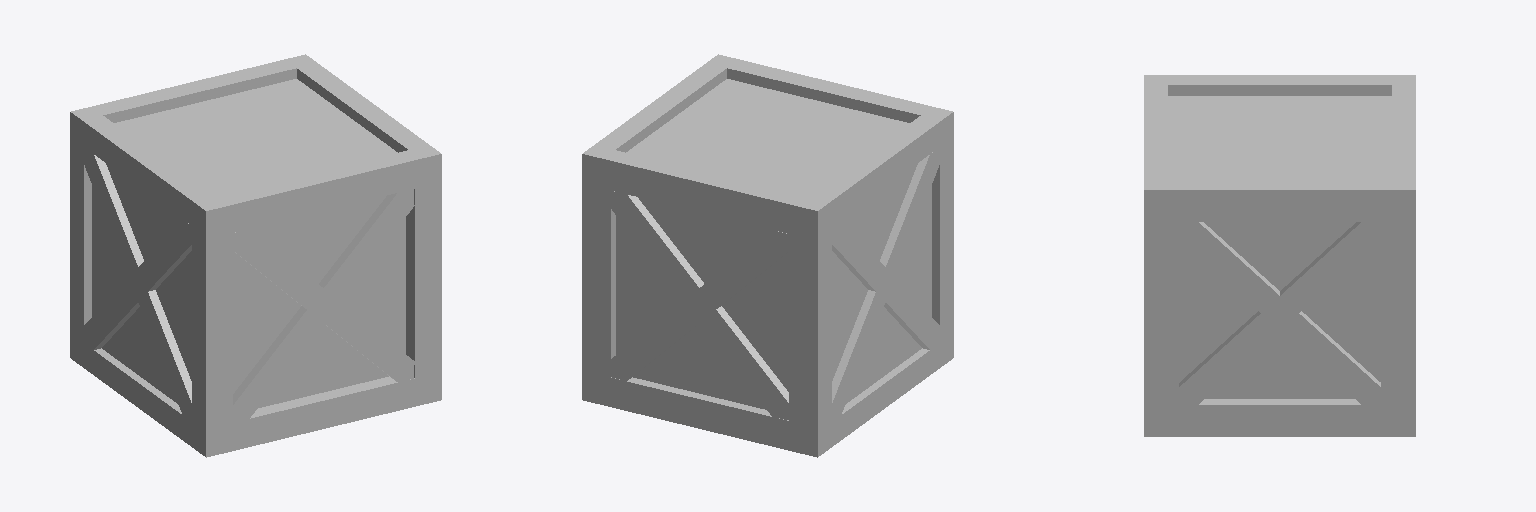
File: caja.obj
3 renders of one model, left to right at view 1: azimuth 30°, elevation 25°; view 2: azimuth 150°, elevation 25°; view 3: azimuth 270°, elevation 25°, orthographic.
Visible parts, largest first — view 1: Caja_1.001_Caja_1_Cube.001; view 2: Caja_1.001_Caja_1_Cube.001; view 3: Caja_1.001_Caja_1_Cube.001.
Boxes of the visible parts, x1=… form: Caja_1.001_Caja_1_Cube.001: x1=70, y1=54, x2=441, y2=457; Caja_1.001_Caja_1_Cube.001: x1=582, y1=54, x2=953, y2=457; Caja_1.001_Caja_1_Cube.001: x1=1144, y1=75, x2=1415, y2=436.
Size of the model in its own units: 0.9954 by 0.9954 by 0.9954.